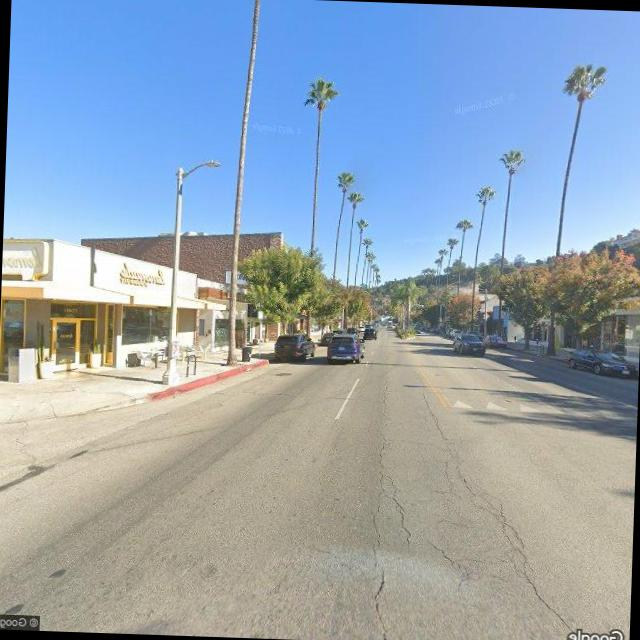crack: (354, 418, 554, 638)
